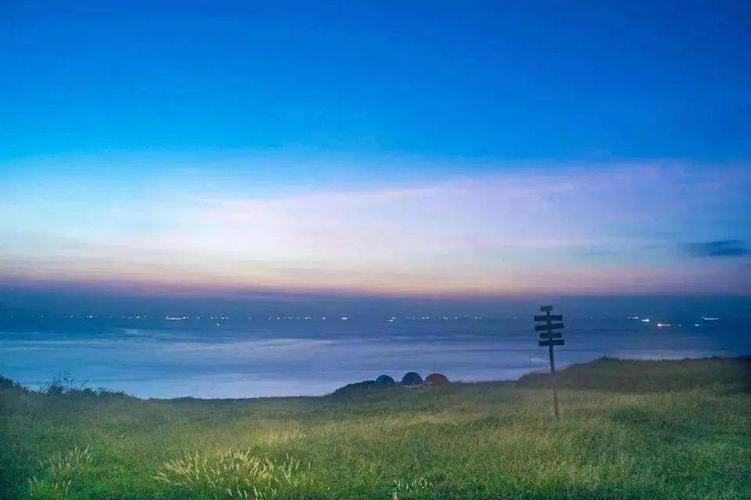sea_river: (21, 269, 699, 357)
sky_cloud: (0, 35, 742, 250)
